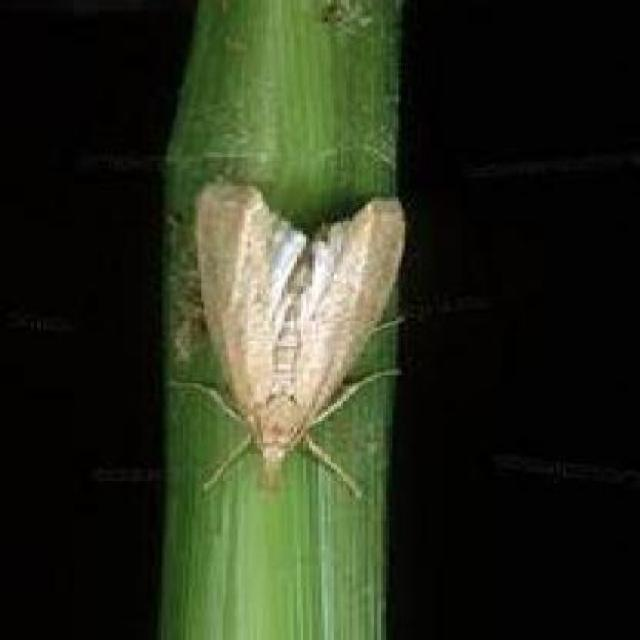stem-borer: (191, 178, 383, 498)
